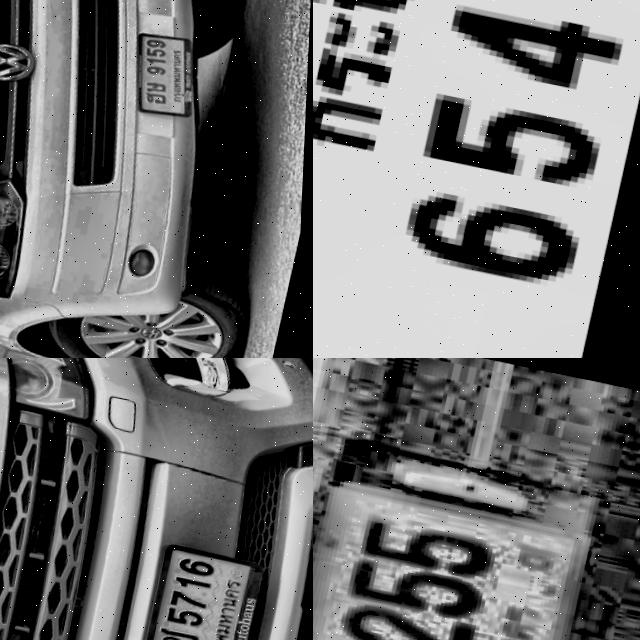license-plate: (313, 0, 640, 358), (313, 473, 584, 640), (133, 539, 269, 640), (117, 22, 213, 123)
